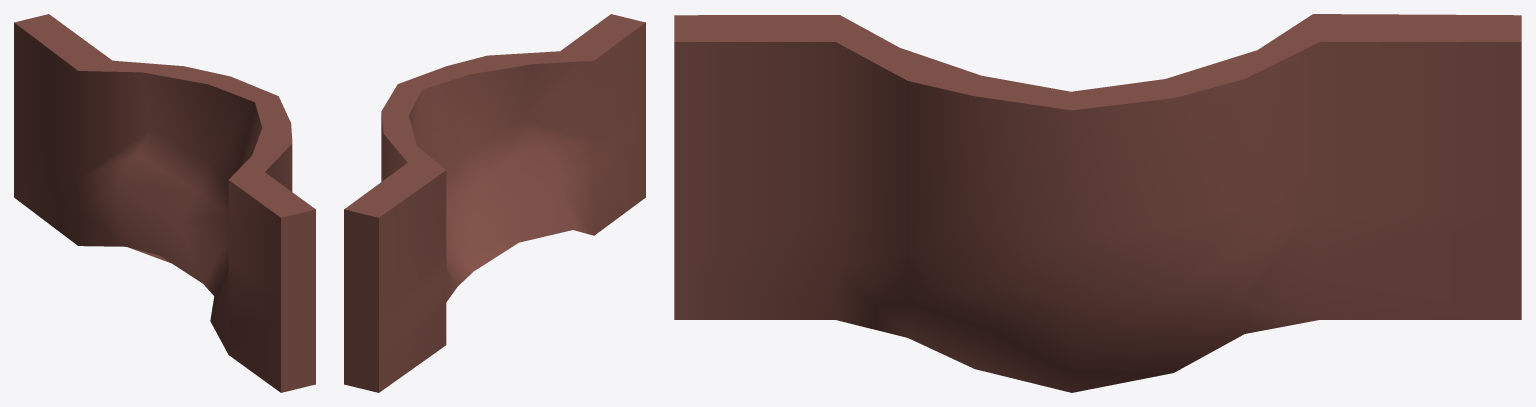
The model's file is Metal_bit_drawer.fbx.
3 views of the same model, side by side, from view 1: azimuth 30°, elevation 25°; view 2: azimuth 150°, elevation 25°; view 3: azimuth 270°, elevation 25° (orthographic). The views are drawn at different scales.
Parts seen in each view (by area): view 1: Hinge; view 2: Hinge; view 3: Hinge.
Boxes of the visible parts, box(x1,y1,x2,y2) form: Hinge: box(14, 14, 315, 392); Hinge: box(344, 14, 645, 392); Hinge: box(674, 14, 1521, 392).
Size of the model in its own units: 0.0352 by 0.0536 by 0.1306.
